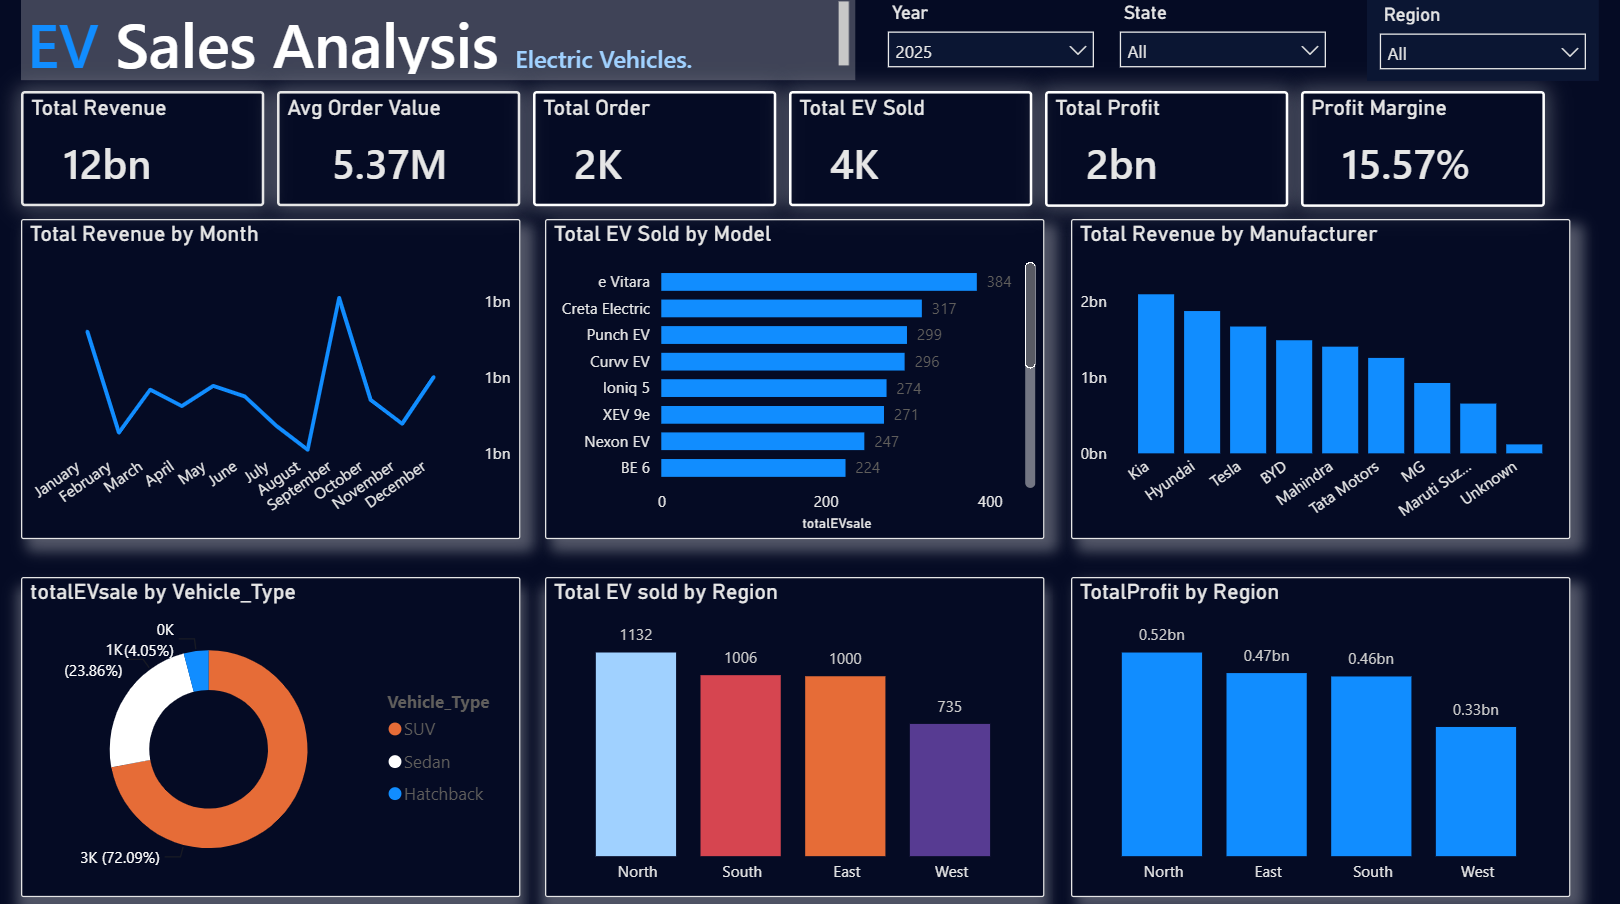

Layout of this report page (visuals, bound fields, positions):
{"tool":"powerbi","page":{"name":"Page 1","canvas":[1280,720],"ordinal":0},"visuals":[{"type":"cardVisual","title":"Total Revenue","fields":{"Data":["EV_Sales_Analysis_Practice_Dirty-1.TotalRevenue"]},"box":[21.7,77.5,190,90],"z":0},{"type":"cardVisual","title":"Avg Order Value","fields":{"Data":["EV_Sales_Analysis_Practice_Dirty-1.AverageOrderValue"]},"box":[221.7,77.5,190,90],"z":1000},{"type":"cardVisual","title":"Profit Margine","fields":{"Data":["EV_Sales_Analysis_Practice_Dirty-1.ProfitMargine"]},"box":[1021.7,77.5,190.5,90.6],"z":2000},{"type":"cardVisual","title":"Total EV Sold","fields":{"Data":["EV_Sales_Analysis_Practice_Dirty-1.totalEVsale"]},"box":[621.7,77.8,190,90],"z":3000},{"type":"cardVisual","title":"Total Profit","fields":{"Data":["EV_Sales_Analysis_Practice_Dirty-1.TotalProfit"]},"box":[821.7,77.8,190,90.6],"z":4000},{"type":"lineChart","title":"Total Revenue by Month","fields":{"Category":["EV_Sales_Analysis_Practice_Dirty-1.Order_Date.Variation.Date Hierarchy.Month"],"Y2":["EV_Sales_Analysis_Practice_Dirty-1.TotalRevenue"]},"box":[21.7,177.5,390,250],"z":5000},{"type":"clusteredBarChart","title":"Total EV Sold by Model","fields":{"Category":["EV_Sales_Analysis_Practice_Dirty-1.Model"],"Y":["EV_Sales_Analysis_Practice_Dirty-1.totalEVsale"]},"box":[431.7,177.5,390,250],"z":6000},{"type":"clusteredColumnChart","title":"Total Revenue by Manufacturer","fields":{"Category":["EV_Sales_Analysis_Practice_Dirty-1.Manufacturer"],"Y":["EV_Sales_Analysis_Practice_Dirty-1.TotalRevenue"]},"box":[841.7,177.5,390,250],"z":7000},{"type":"clusteredColumnChart","title":"Total EV sold  by Region","fields":{"Y":["EV_Sales_Analysis_Practice_Dirty-1.totalEVsale"],"Category":["EV_Sales_Analysis_Practice_Dirty-1.Region"]},"box":[431.7,457.5,390,250],"z":8000},{"type":"donutChart","fields":{"Category":["EV_Sales_Analysis_Practice_Dirty-1.Vehicle_Type"],"Y":["EV_Sales_Analysis_Practice_Dirty-1.totalEVsale"]},"box":[21.7,457.5,390,250],"z":9000},{"type":"clusteredColumnChart","fields":{"Category":["EV_Sales_Analysis_Practice_Dirty-1.Region"],"Y":["EV_Sales_Analysis_Practice_Dirty-1.TotalProfit"]},"box":[841.7,457.5,390,250],"z":10000},{"type":"slicer","fields":{"Values":["EV_Sales_Analysis_Practice_Dirty-1.Region"]},"box":[1073,4.7,181.2,65.6],"z":11000},{"type":"slicer","fields":{"Values":["EV_Sales_Analysis_Practice_Dirty-1.State"]},"box":[869.9,3.1,181.2,67.2],"z":12000},{"type":"cardVisual","title":"Total Order","fields":{"Data":["EV_Sales_Analysis_Practice_Dirty-1.TotalOrders"]},"box":[421.7,77.5,190,90],"z":13000},{"type":"textbox","box":[21.7,3.3,651.7,66.7],"z":14000},{"type":"slicer","fields":{"Values":["EV_Sales_Analysis_Practice_Dirty-1.Order_Date.Variation.Date Hierarchy.Year"]},"box":[688.8,3.1,181.2,67.2],"z":15000}]}

Visuals, with their boxes in screenshot pixels (x1, y1, x2, y2), scaled from the page's 1280x720 canvas onto the 1620x904 screenshot:
"Total Revenue" cardVisual: 27,97,268,210
"Avg Order Value" cardVisual: 281,97,521,210
"Profit Margine" cardVisual: 1293,97,1534,211
"Total EV Sold" cardVisual: 787,98,1027,211
"Total Profit" cardVisual: 1040,98,1280,211
"Total Revenue by Month" lineChart: 27,223,521,537
"Total EV Sold by Model" clusteredBarChart: 546,223,1040,537
"Total Revenue by Manufacturer" clusteredColumnChart: 1065,223,1559,537
"Total EV sold  by Region" clusteredColumnChart: 546,574,1040,888
donutChart - EV_Sales_Analysis_Practice_Dirty-1.Vehicle_Type x EV_Sales_Analysis_Practice_Dirty-1.totalEVsale: 27,574,521,888
clusteredColumnChart - EV_Sales_Analysis_Practice_Dirty-1.Region x EV_Sales_Analysis_Practice_Dirty-1.TotalProfit: 1065,574,1559,888
slicer - EV_Sales_Analysis_Practice_Dirty-1.Region: 1358,6,1587,88
slicer - EV_Sales_Analysis_Practice_Dirty-1.State: 1101,4,1330,88
"Total Order" cardVisual: 534,97,774,210
textbox: 27,4,852,88
slicer - EV_Sales_Analysis_Practice_Dirty-1.Order_Date.Variation.Date Hierarchy.Year: 872,4,1101,88
